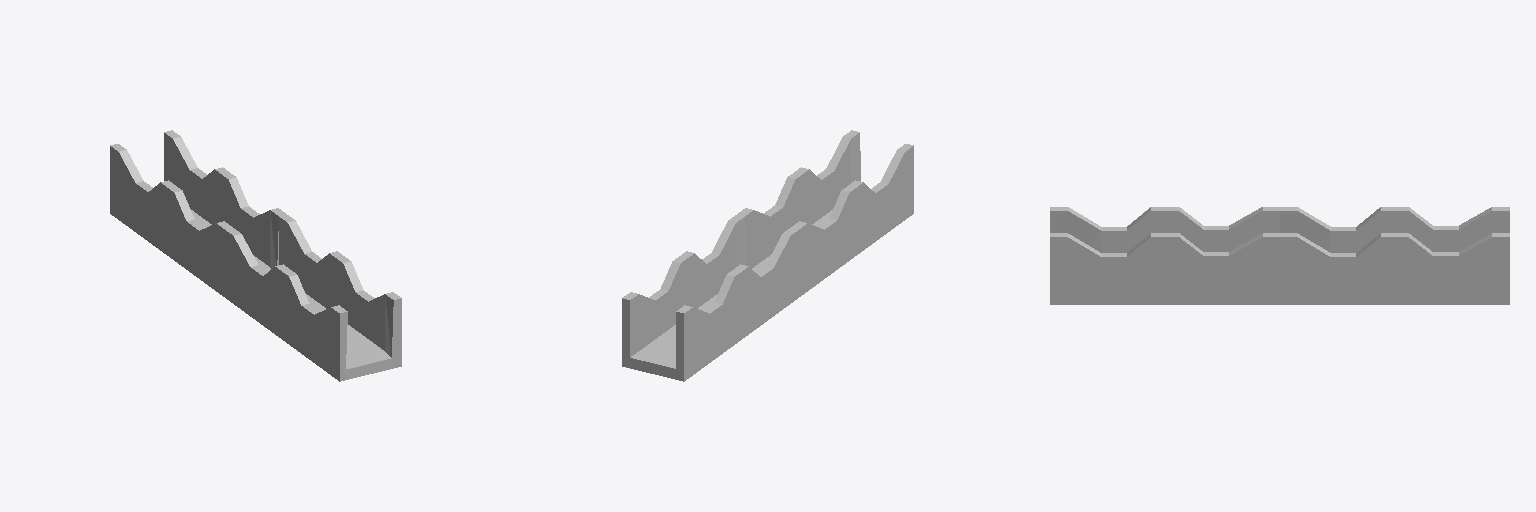
Rendered from 0015_BridgeNew.obj.
3 renders of one model, left to right at view 1: azimuth 30°, elevation 25°; view 2: azimuth 150°, elevation 25°; view 3: azimuth 270°, elevation 25°, orthographic.
Visible parts, largest first — view 1: BridgeEditm, BridgeEditm.001; view 2: BridgeEditm.001, BridgeEditm; view 3: BridgeEditm, BridgeEditm.001.
Part boxes in pixels (bbox=[...]): BridgeEditm: bbox=[225, 214, 401, 381]; BridgeEditm.001: bbox=[110, 130, 285, 296]; BridgeEditm.001: bbox=[622, 215, 798, 381]; BridgeEditm: bbox=[737, 130, 913, 296]; BridgeEditm: bbox=[1050, 207, 1279, 304]; BridgeEditm.001: bbox=[1280, 207, 1509, 304].
Size of the model in its own units: 47.06 by 49.12 by 300.